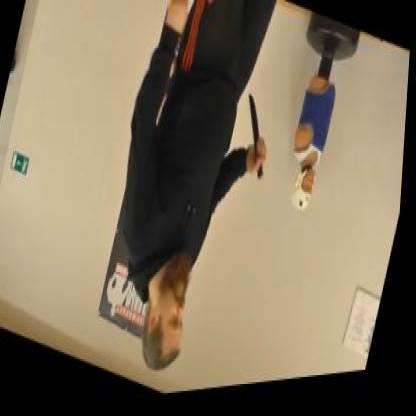knife: (232, 92, 282, 192)
